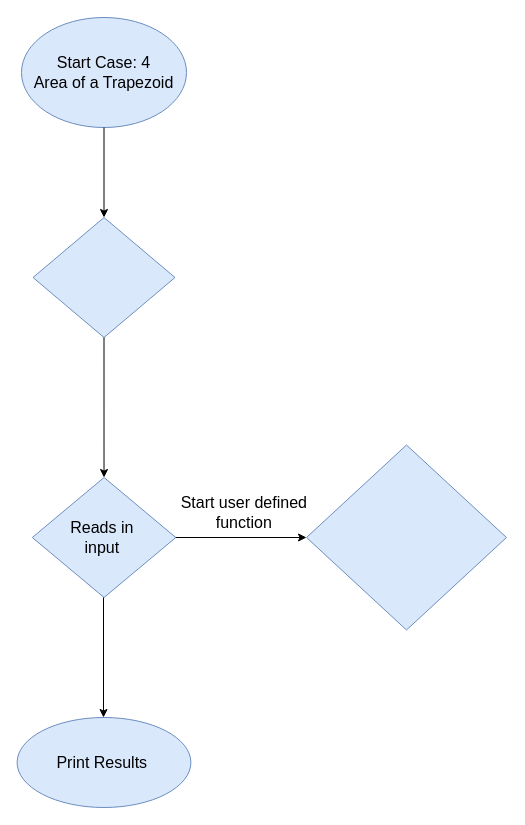
The diagram is 525 pixels wide and 825 high, and some of its shapes have lost their labels. Each missing label, with the centre of its shape:
"Declare Variables" belongs at (x=103, y=277).
"Performs Calculations (sideA+sideB)/2*height" belongs at (x=406, y=537).
